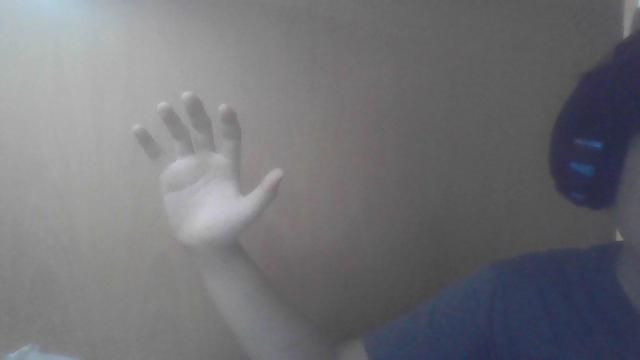Stop: (134, 96, 288, 244)
